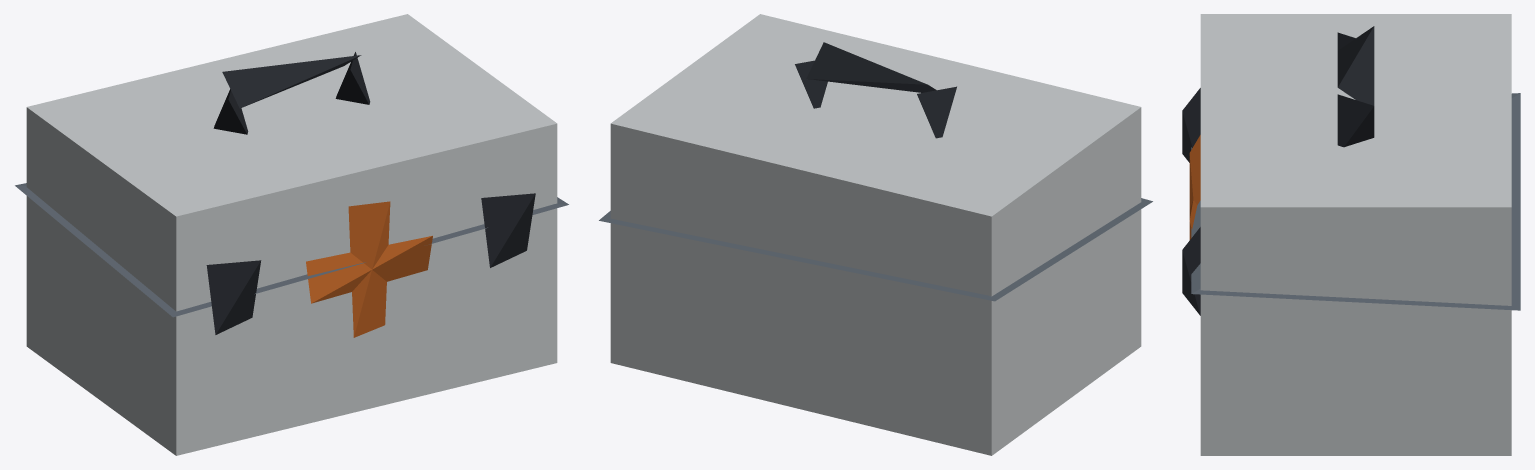
File: trauma-case.lod.glb
3 views of the same model, side by side, from view 1: azimuth 30°, elevation 25°; view 2: azimuth 150°, elevation 25°; view 3: azimuth 270°, elevation 25° (orthographic). The views are drawn at different scales.
Visible parts, largest first — view 1: trauma-case; view 2: trauma-case; view 3: trauma-case.
Boxes of the visible parts, x1=… form: trauma-case: x1=15, y1=14, x2=568, y2=455; trauma-case: x1=599, y1=14, x2=1152, y2=455; trauma-case: x1=1182, y1=14, x2=1520, y2=455.
Bounding box in the file's own units: 0.52 × 0.365 × 0.37.
